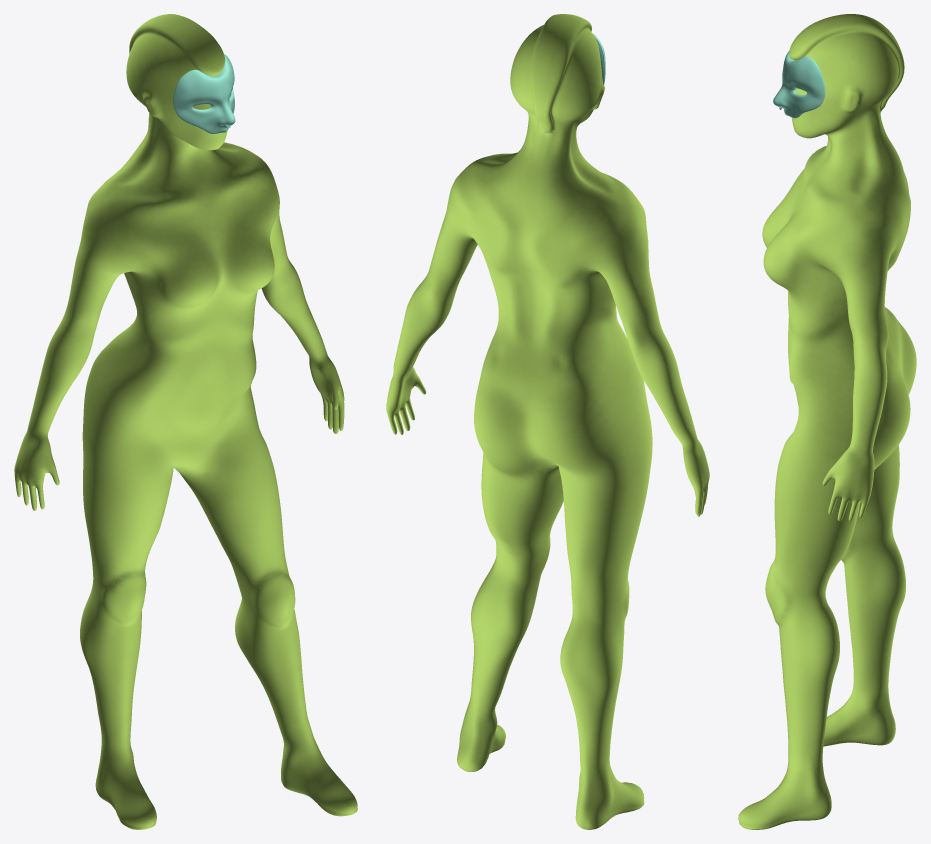
File: All_posed.fbx
3 views of the same model, side by side, from view 1: azimuth 30°, elevation 25°; view 2: azimuth 150°, elevation 25°; view 3: azimuth 270°, elevation 25° (orthographic). The views are drawn at different scales.
Visible parts, largest first — view 1: Body_posed, Mask_posed; view 2: Body_posed; view 3: Body_posed, Mask_posed.
Part boxes in pixels (<box>): Body_posed: <box>14,14,357,829</box>; Mask_posed: <box>173,54,235,133</box>; Body_posed: <box>386,14,709,829</box>; Body_posed: <box>738,14,916,829</box>; Mask_posed: <box>773,51,825,118</box>.
Bounding box in the file's own units: 406 × 966 × 207.
